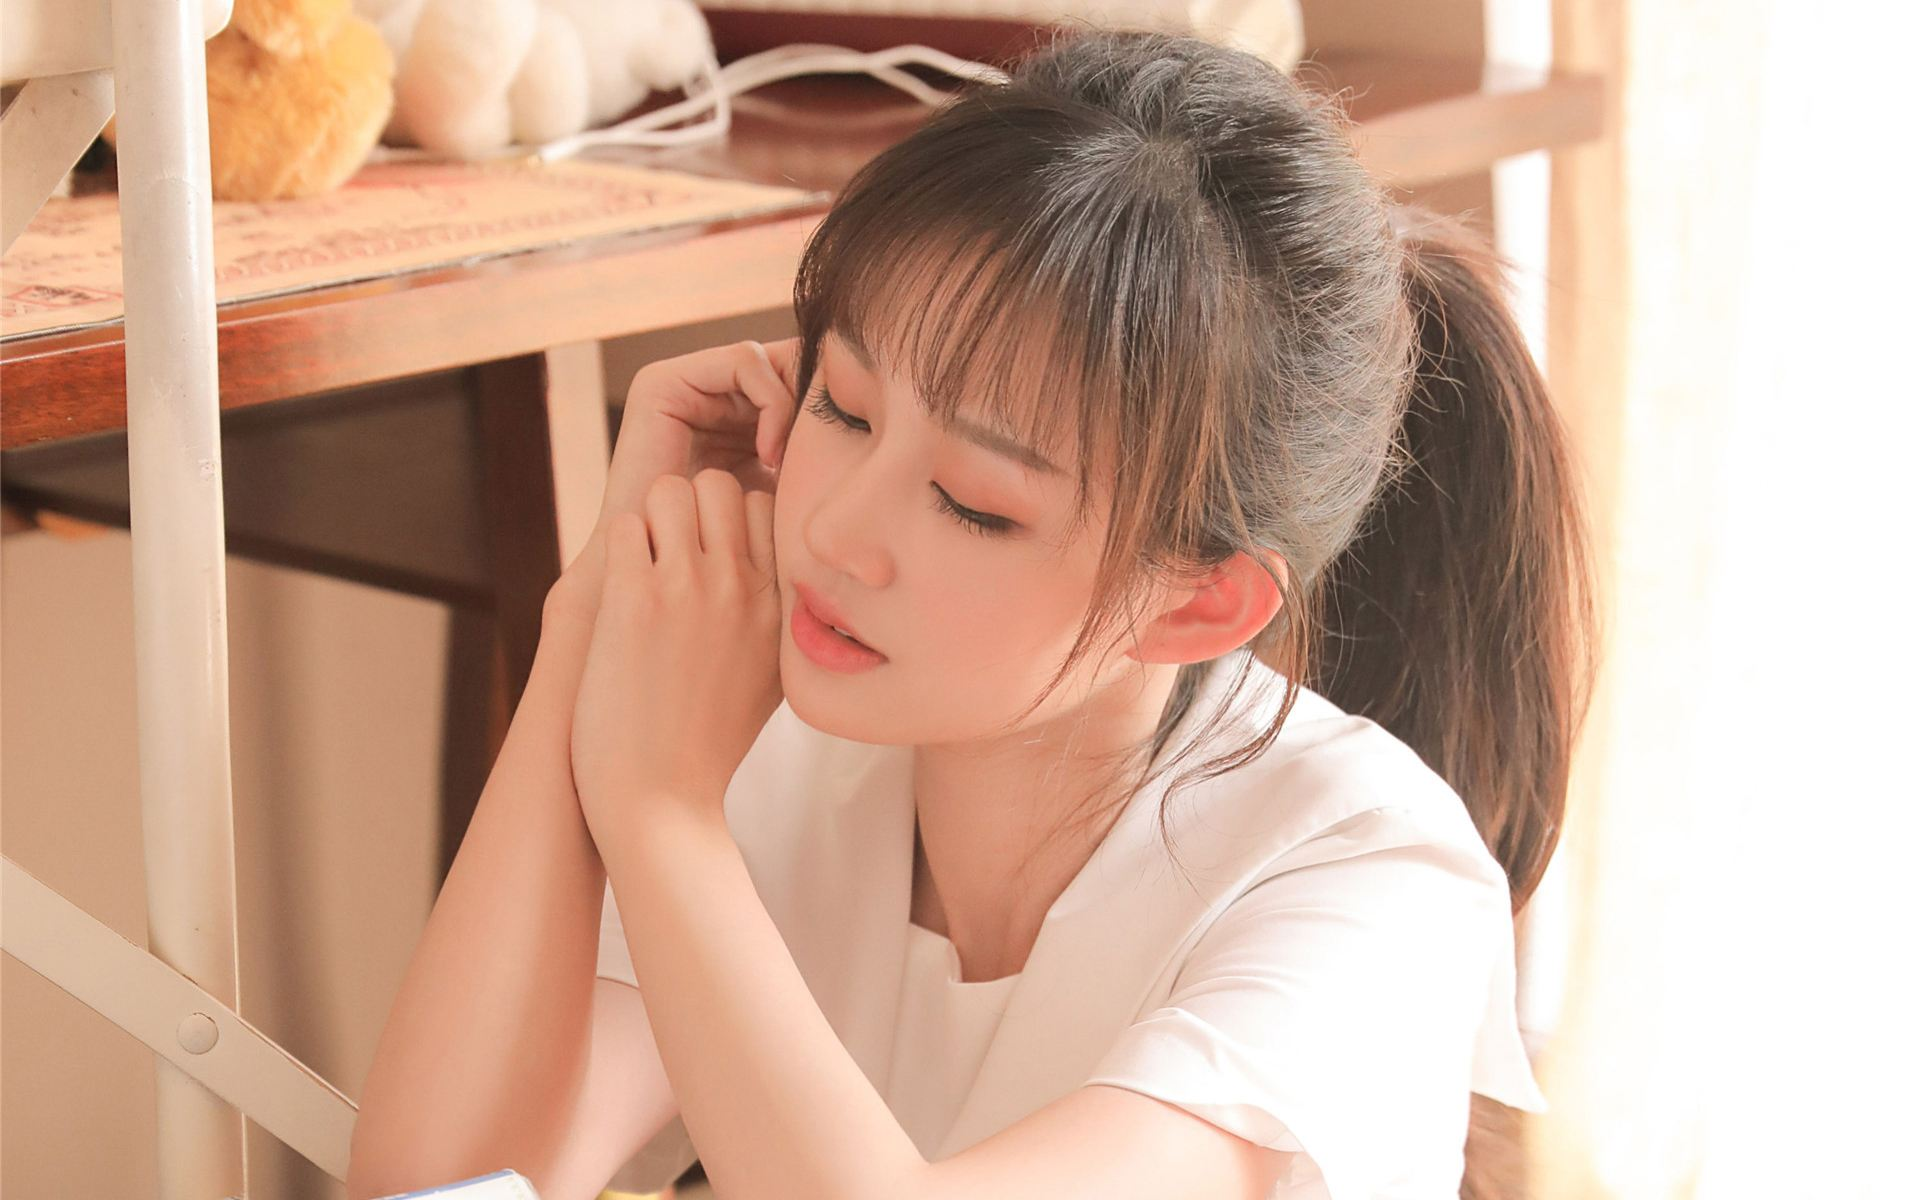person: (648, 48, 1597, 810)
